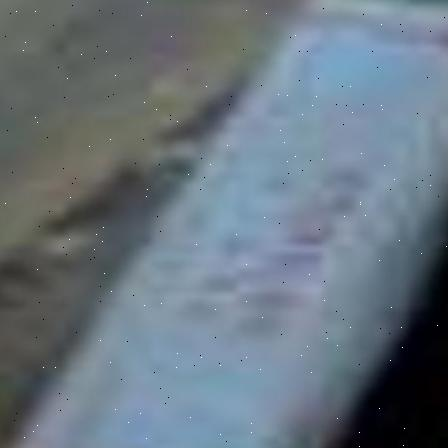Other: (41, 18, 448, 448)
